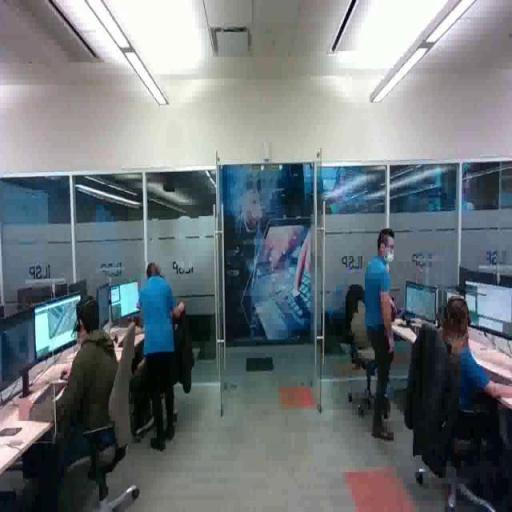person: (135, 260, 185, 452), (367, 225, 399, 443)
